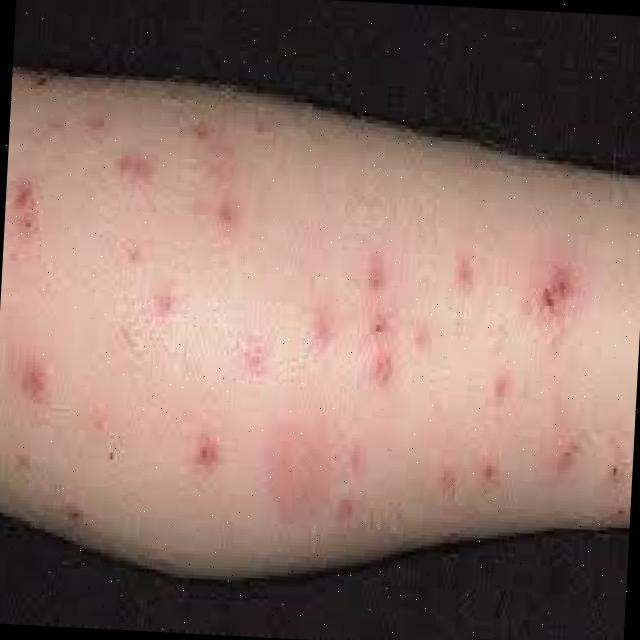kan emici bocekler: (533, 261, 594, 330), (239, 316, 273, 378), (187, 432, 223, 477), (365, 353, 397, 396), (362, 260, 392, 301), (364, 309, 399, 344), (456, 256, 485, 290)
